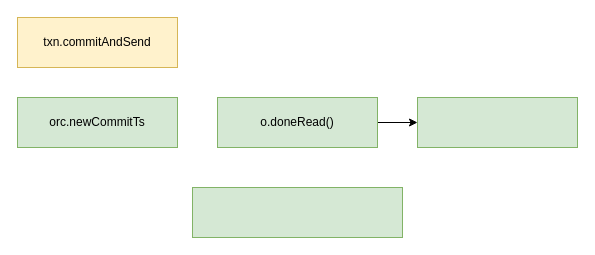
The diagram is 595 pixels wide and 255 high, and some of its shapes have lost their labels. The box of each missing label's shape, as (x1, y1, x2, y2) in pixels:
o.cleanupCommittedTransactions: (192, 186, 402, 238)
readMark.Done(txn.readTs): (416, 96, 578, 148)
